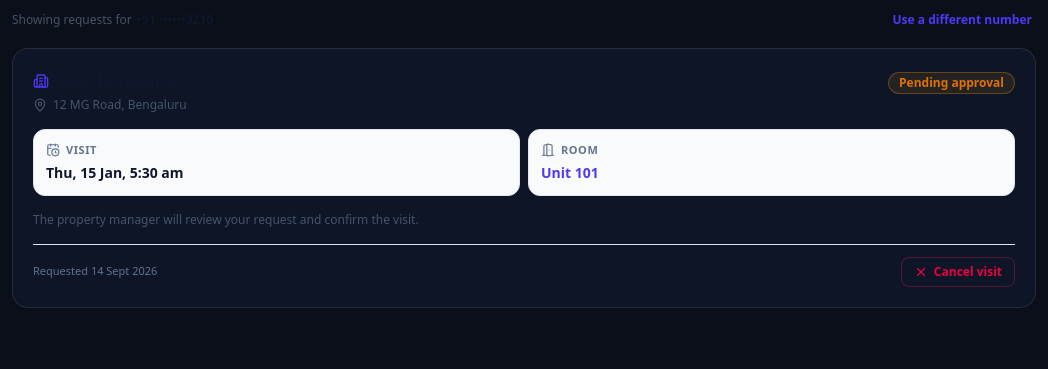
it: MyRequestsView › reloads the list when the visit can no longer be cancelled
Step 1. Click the button "Cancel visit" → (958, 272), box x1=901 y1=256 x2=1015 y2=286
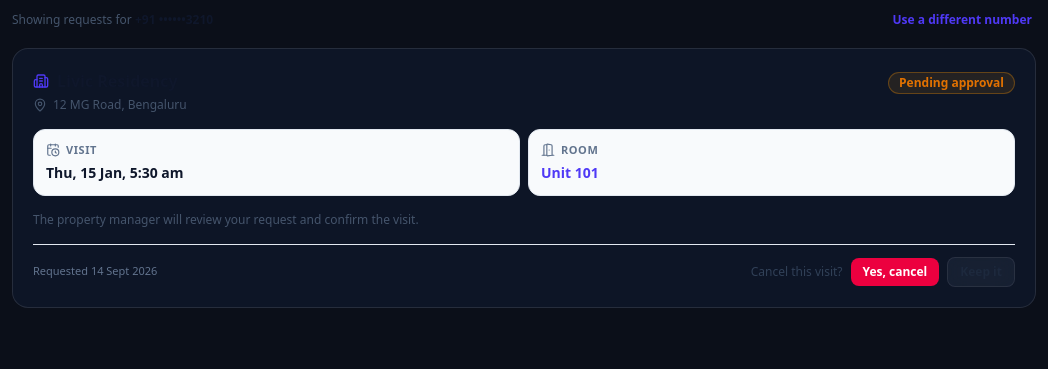
Step 2. Click the button "Yes, cancel" → (895, 272), box x1=850 y1=258 x2=939 y2=286
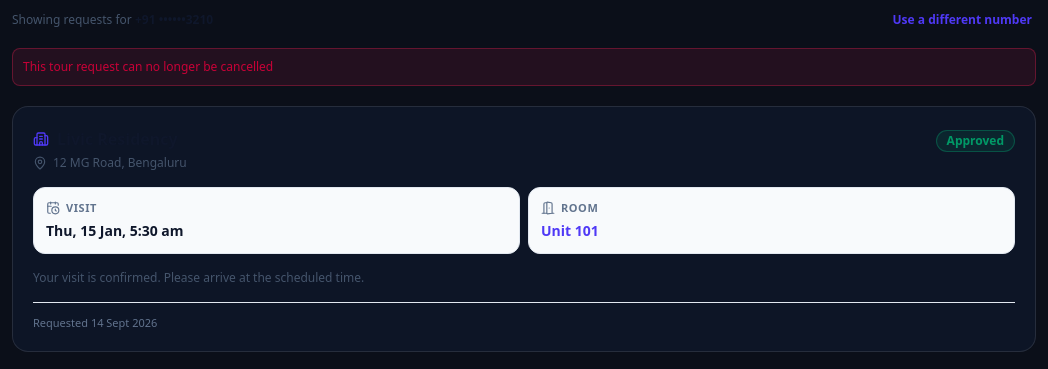
Expected: the message reads "This tour request can no longer be cancelled", x1=23 y1=58 x2=273 y2=75
Expected: the text "Approved" is shown, x1=936 y1=130 x2=1015 y2=152
